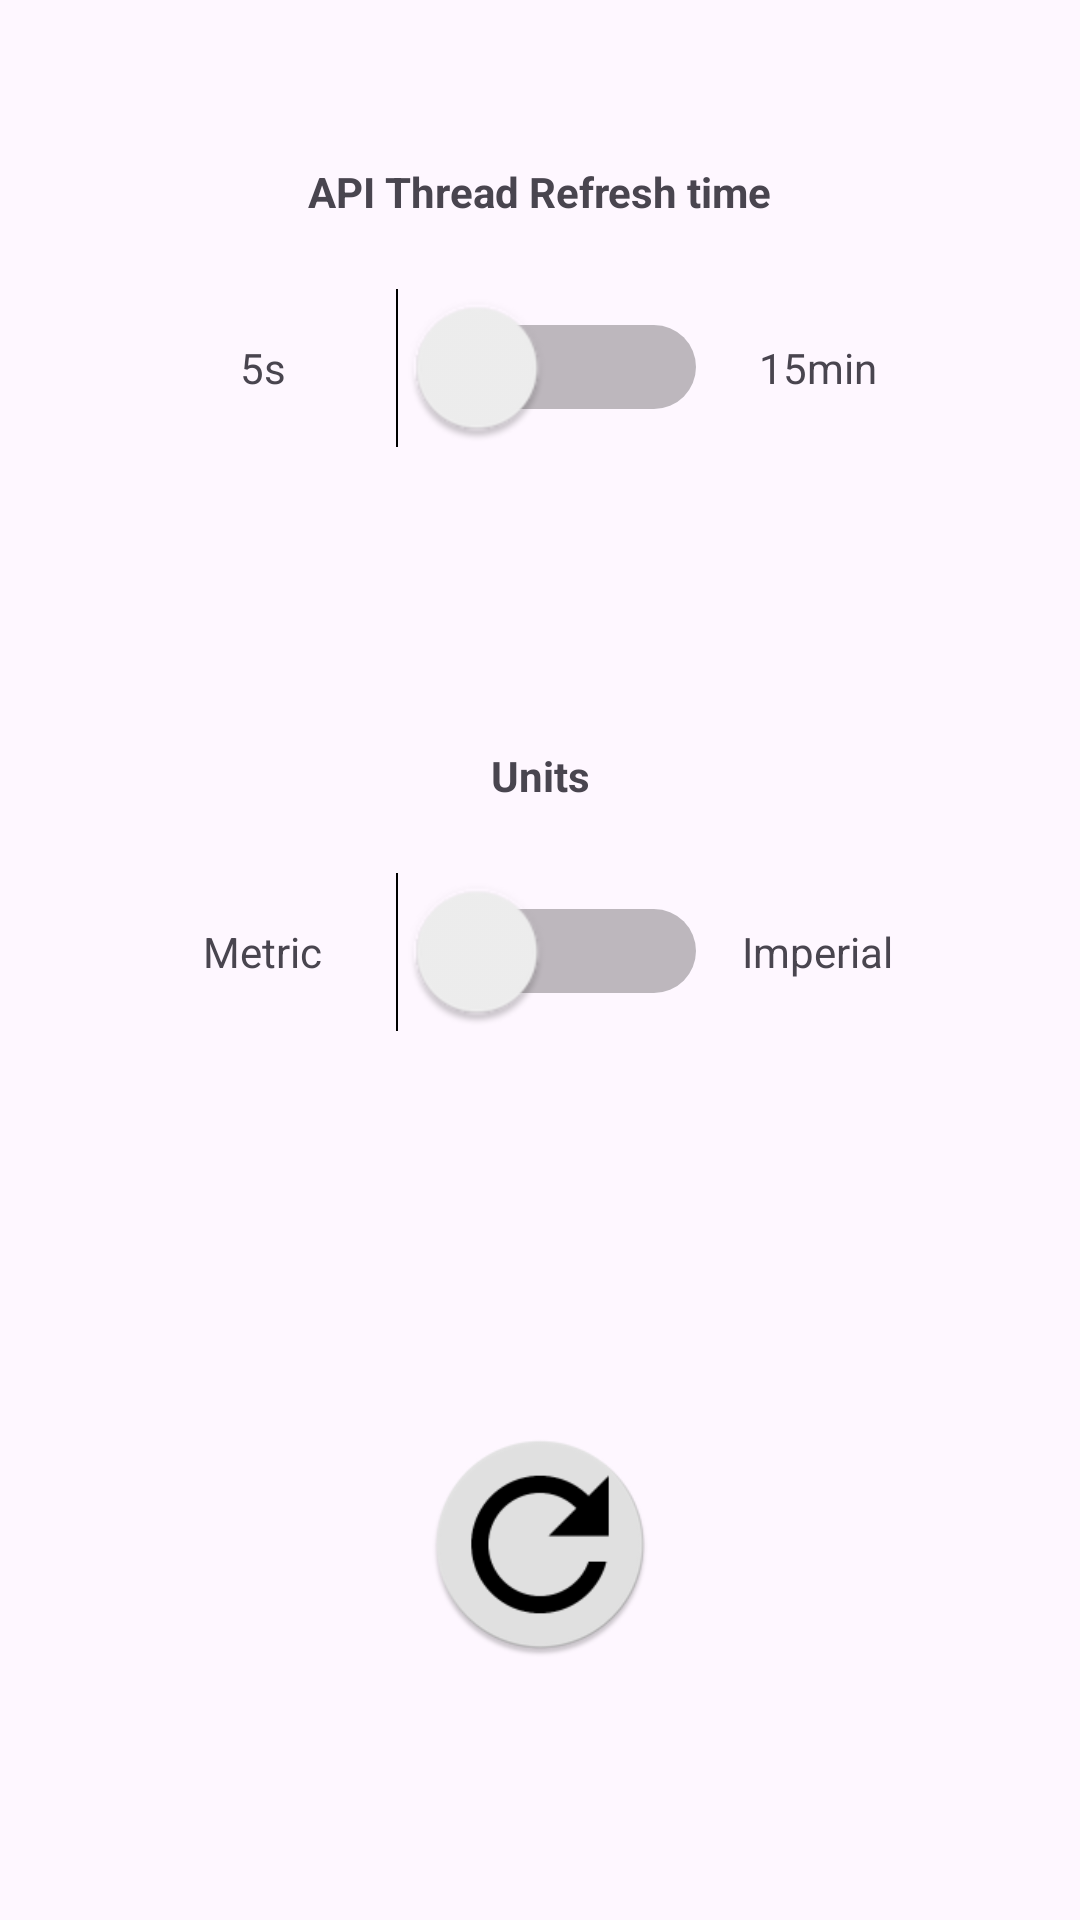

Icons on this 1080x1920 Android screen, each with its box as (x1, y1, x2, y2):
refresh: (437, 1442, 644, 1653)
